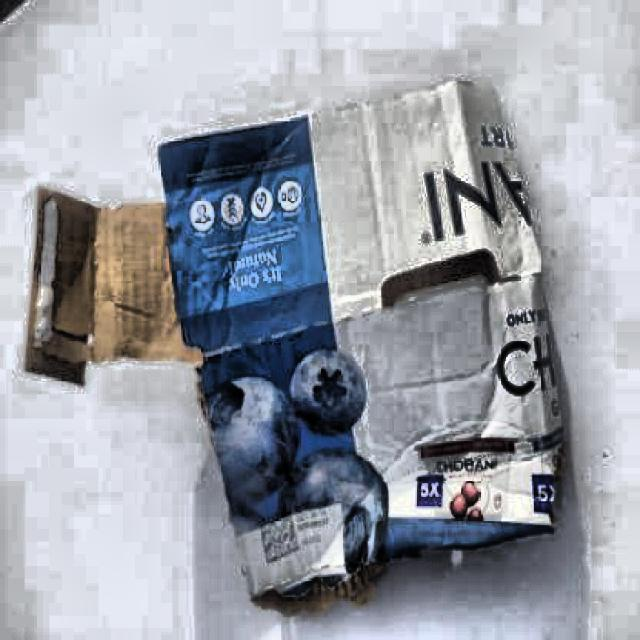Cardbox: (0, 31, 609, 640)
